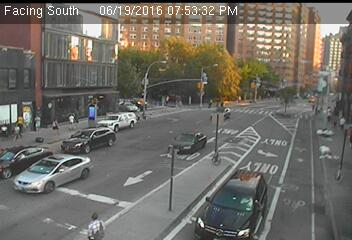neg: (280, 116, 295, 136), (170, 34, 184, 51), (109, 145, 120, 161), (157, 139, 168, 154), (213, 35, 224, 50), (169, 115, 179, 129), (193, 173, 203, 186), (120, 49, 129, 62), (110, 117, 119, 129), (97, 93, 105, 105), (235, 153, 243, 164), (230, 173, 238, 184), (191, 66, 199, 77), (258, 139, 266, 149), (89, 63, 93, 69), (264, 164, 267, 168)
pos: (82, 206, 107, 239), (62, 103, 80, 127), (47, 117, 60, 133), (333, 119, 341, 129), (326, 114, 333, 124)
